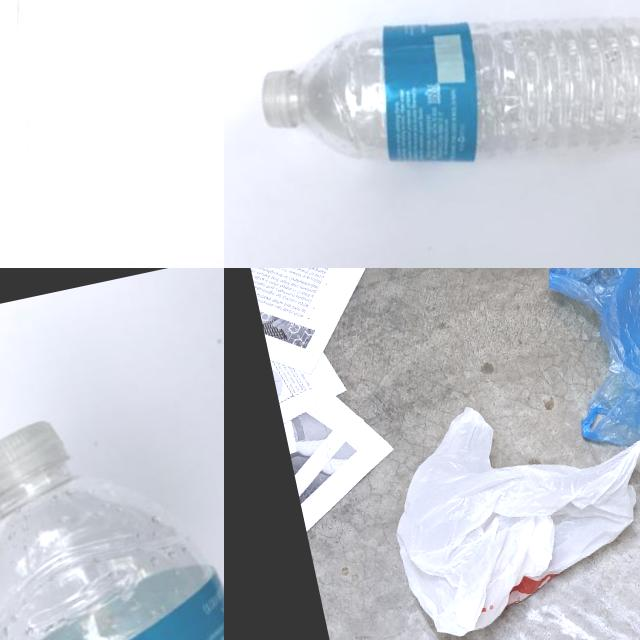garrafa plástica: (286, 0, 640, 216), (0, 445, 224, 640)
papel: (235, 268, 429, 536)
sacola plástica: (371, 373, 640, 640), (0, 0, 224, 268), (545, 268, 640, 458)
tampa plástica: (0, 414, 76, 509), (254, 65, 310, 134)
